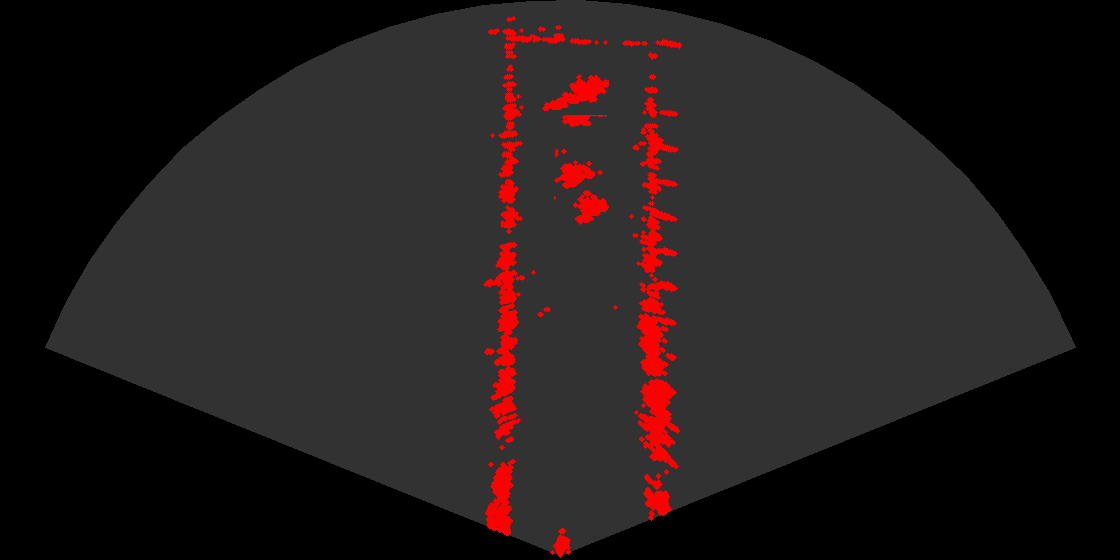AUV: (556, 102, 612, 134)
cage: (554, 149, 617, 233)
frogman: (541, 68, 609, 115)
